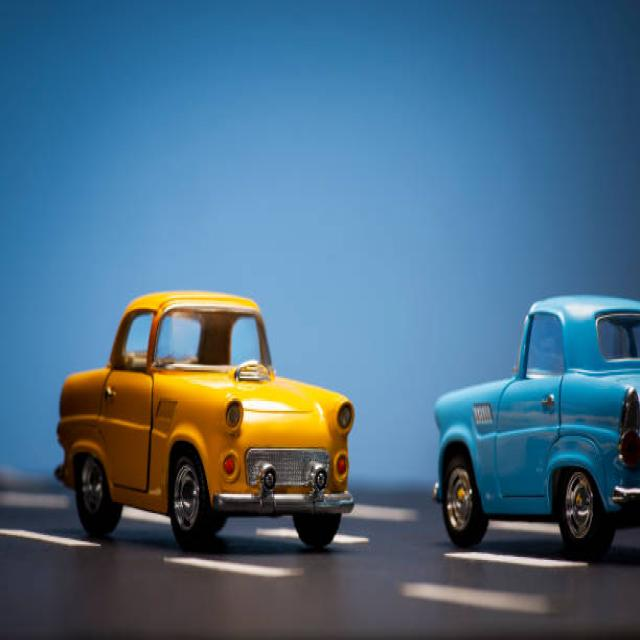Car: (53, 288, 354, 550), (431, 292, 639, 560)
